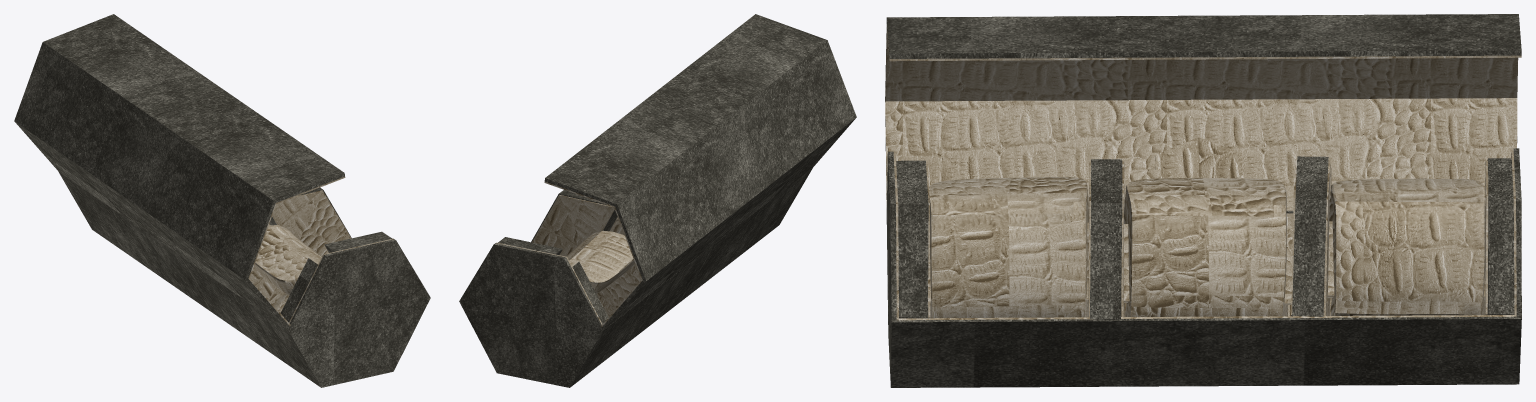
The model's file is Hexa.glb.
3 views of the same model, side by side, from view 1: azimuth 30°, elevation 25°; view 2: azimuth 150°, elevation 25°; view 3: azimuth 270°, elevation 25° (orthographic). The views are drawn at different scales.
Visible parts, largest first — view 1: OuterShell, InnerShell; view 2: OuterShell, InnerShell; view 3: InnerShell, OuterShell.
Boxes of the visible parts, x1,y1,x2,y2 form: OuterShell: (14,14,430,387); InnerShell: (248,176,393,325); OuterShell: (459,14,856,387); InnerShell: (496,181,642,327); InnerShell: (885,24,1521,320); OuterShell: (885,14,1521,387).
Size of the model in its own units: 0.1145 by 0.1183 by 0.2259.
Materials: 2 (2 with a texture image).
